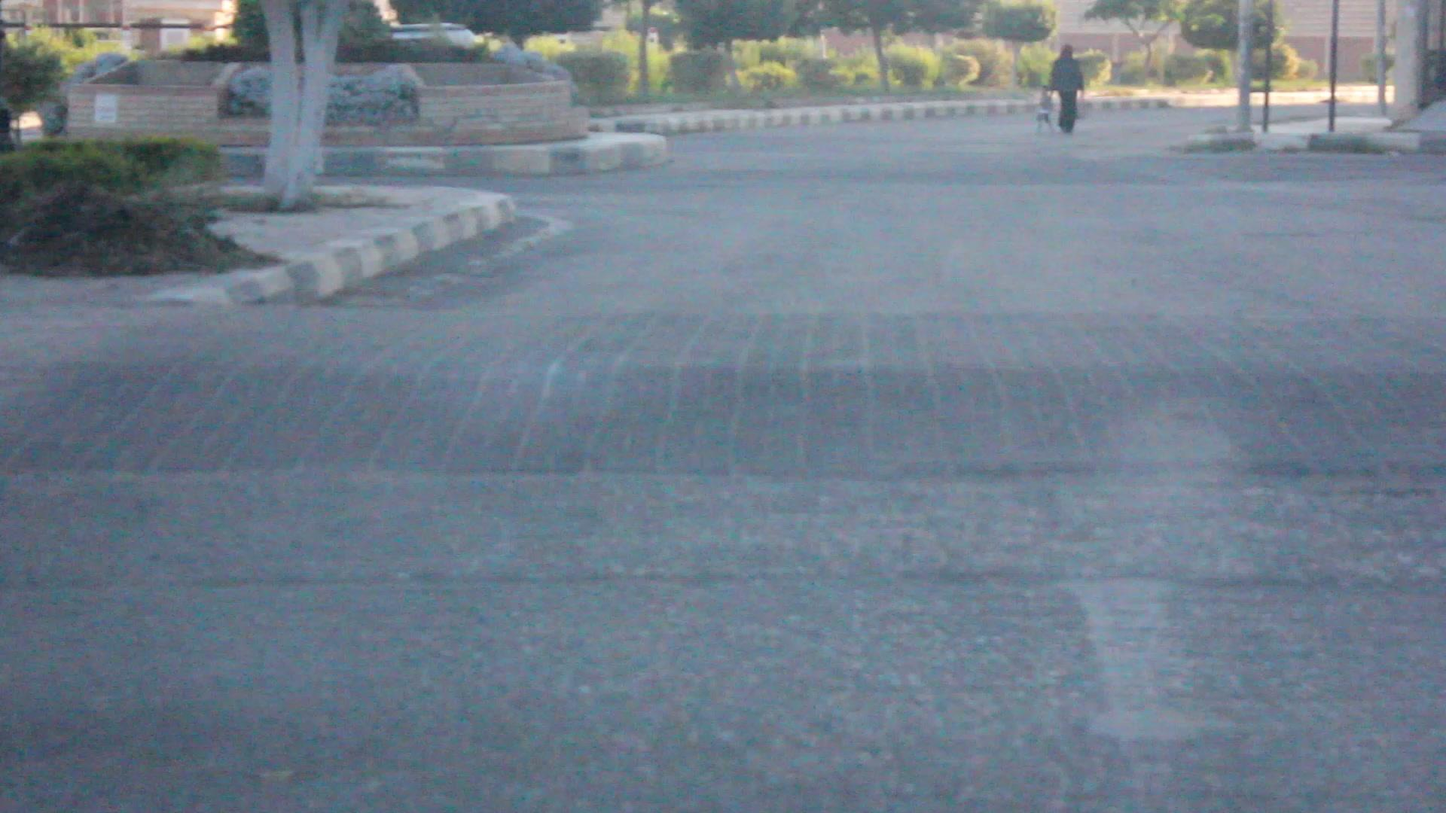Bump: (0, 302, 1445, 483)
